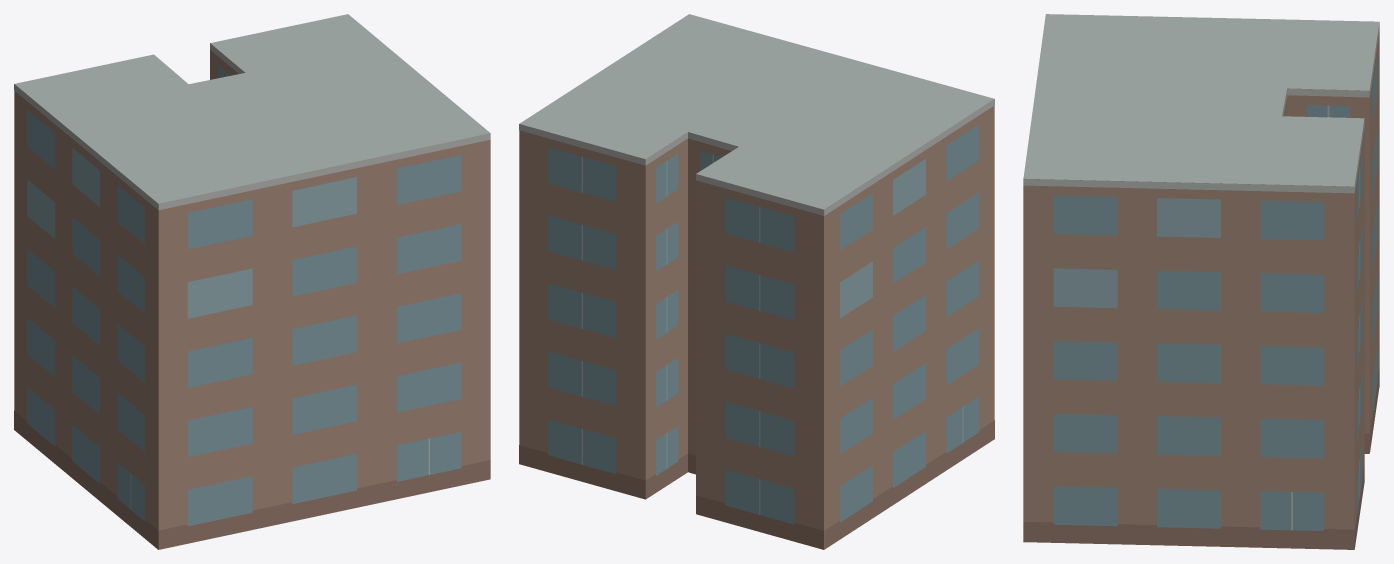
File: survey-upis-32533761.glb
The picture shows the model from 3 angles, left to right: view 1: azimuth 30°, elevation 25°; view 2: azimuth 150°, elevation 25°; view 3: azimuth 270°, elevation 25°; orthographic projection. The views are drawn at different scales.
Parts seen in each view (by area): view 1: survey-upis-32533761.tmp; view 2: survey-upis-32533761.tmp; view 3: survey-upis-32533761.tmp.
Boxes of the visible parts, x1,y1,x2,y2 form: survey-upis-32533761.tmp: [14, 14, 490, 549]; survey-upis-32533761.tmp: [519, 14, 994, 549]; survey-upis-32533761.tmp: [1023, 14, 1379, 549].
Size of the model in its own units: 13.25 by 13 by 11.56.
